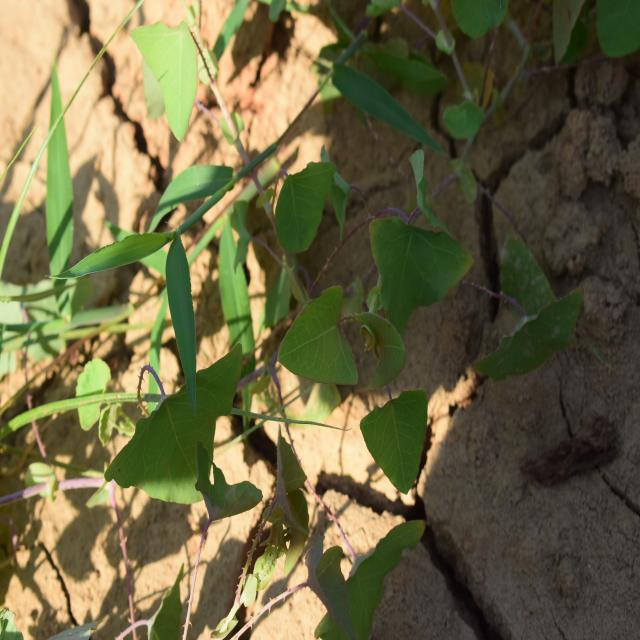Asiatic_Smartweed: (275, 160, 570, 493), (110, 331, 277, 555)
